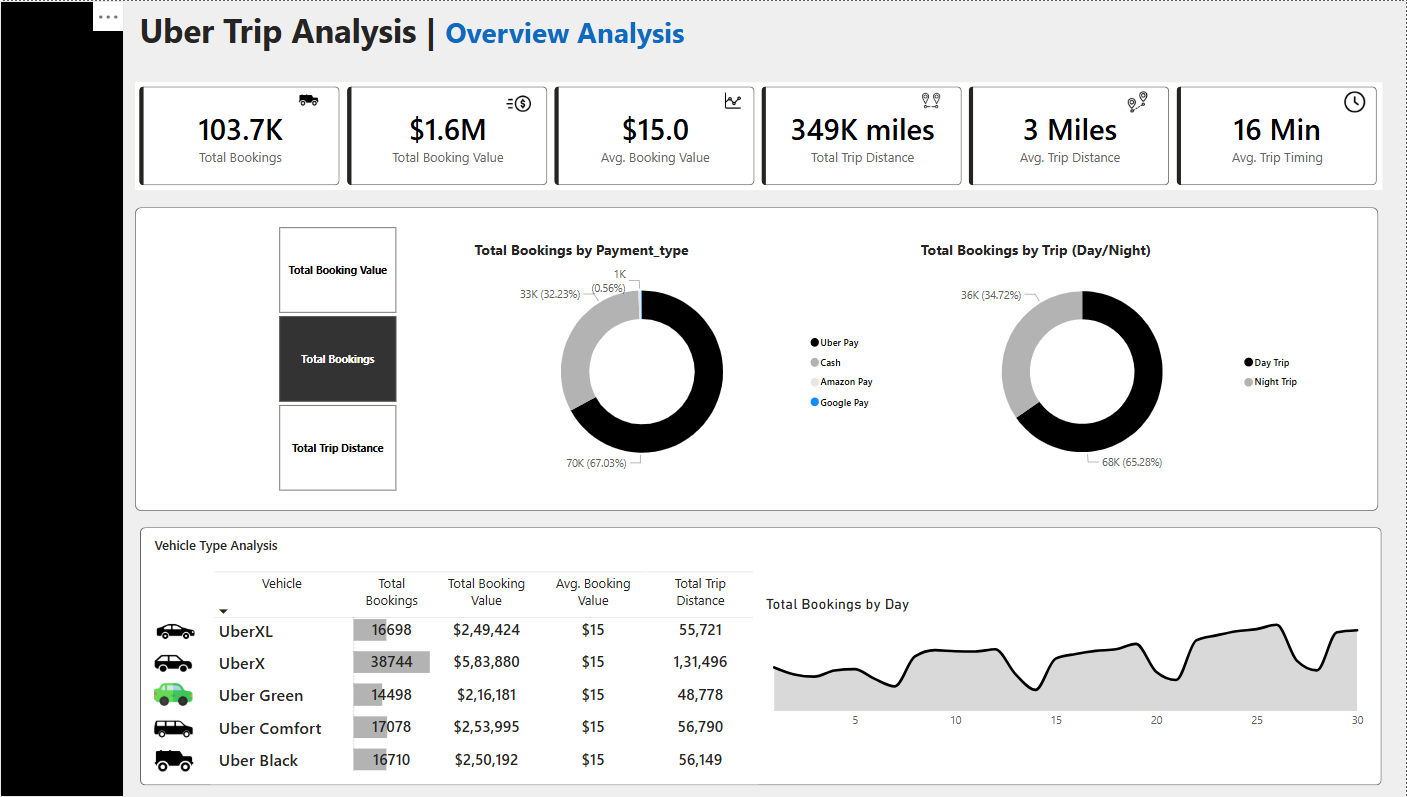

Layout of this report page (visuals, bound fields, positions):
{"tool":"powerbi","page":{"name":"Page 1","canvas":[1607,910],"ordinal":0},"visuals":[{"type":"shape","box":[0,0,141.8,910.3],"z":0},{"type":"textbox","box":[154,2.4,893.5,61],"z":1000},{"type":"cardVisual","fields":{"Data":["Trip Details.Total Bookings","Trip Details.Total Booking Value","Trip Details.Avg. Booking Amount","Trip Details.Total Trip Distance","Trip Details.Avg. Trip Distance","Trip Details.Avg. Trip Timing"]},"box":[154,93,1425.7,123.5],"z":2000},{"type":"image","box":[562.7,99.1,59.5,38.1],"z":3000},{"type":"image","box":[1032.3,99.1,62.5,30.5],"z":4000},{"type":"image","box":[1265.6,99.1,70.1,33.5],"z":5000},{"type":"image","box":[1524.8,99.1,47.3,33.5],"z":6000},{"type":"image","box":[806.6,99.1,61,30.5],"z":7000},{"type":"image","box":[320.2,97.6,65.6,32],"z":8000},{"type":"shape","box":[154.7,235,1421.9,347.4],"z":9000},{"type":"slicer","fields":{"Values":["Dynamic Measure.Dynamic Measure"]},"box":[293.4,251.1,183.9,315.3],"z":10000},{"type":"donutChart","fields":{"Y":["Trip Details.Total Bookings"],"Category":["Trip Details.Payment_type"]},"box":[537.2,273,474.5,280.3],"z":11000},{"type":"donutChart","fields":{"Y":["Trip Details.Total Bookings"],"Category":["Trip Details.Trip Type (Day/Night)"]},"box":[1046.7,273,449.6,280.3],"z":12000},{"type":"shape","box":[160.6,601.5,1419,294.9],"z":13000},{"type":"pivotTable","fields":{"Rows":["Trip Details.Vehicle"],"Values":["Trip Details.Total Bookings","Trip Details.Total Booking Value","Trip Details.Avg. Booking Value","Trip Details.Total Trip Distance Measure"]},"box":[239.4,646.7,626.3,248.2],"z":14000},{"type":"image","box":[163.5,692,75.9,58.4],"z":15000},{"type":"image","box":[160.6,729.9,75.9,54],"z":16000},{"type":"image","box":[160.6,766.4,75.9,54],"z":17000},{"type":"image","box":[166.4,840.9,67.2,54],"z":18000},{"type":"image","box":[160.6,802.9,75.9,58.4],"z":19000},{"type":"card","fields":{"Values":["Trip Details.Title for Grid"]},"box":[156.2,610.2,182.5,29.2],"z":20000},{"type":"areaChart","fields":{"Category":["Calendar Table.Date.Variation.Date Hierarchy.Day"],"Y":["Trip Details.Total Bookings"]},"box":[870.1,678.8,696.3,162],"z":22000}]}

Visuals, with their boxes on the page's 1607x910 design canvas (x1, y1, x2, y2). These are canvas units, not pixel positions in the 1407x797 screenshot, which may show the page scaled, cropped or inside an application window:
shape: 0,0,142,910
textbox: 154,2,1048,63
cardVisual - Trip Details.Total Bookings x Trip Details.Total Booking Value: 154,93,1580,216
image: 563,99,622,137
image: 1032,99,1095,130
image: 1266,99,1336,133
image: 1525,99,1572,133
image: 807,99,868,130
image: 320,98,386,130
shape: 155,235,1577,582
slicer - Dynamic Measure.Dynamic Measure: 293,251,477,566
donutChart - Trip Details.Total Bookings x Trip Details.Payment_type: 537,273,1012,553
donutChart - Trip Details.Total Bookings x Trip Details.Trip Type (Day/Night): 1047,273,1496,553
shape: 161,602,1580,896
pivotTable - Trip Details.Vehicle x Trip Details.Total Bookings: 239,647,866,895
image: 164,692,239,750
image: 161,730,236,784
image: 161,766,236,820
image: 166,841,234,895
image: 161,803,236,861
card - Trip Details.Title for Grid: 156,610,339,639
areaChart - Calendar Table.Date.Variation.Date Hierarchy.Day x Trip Details.Total Bookings: 870,679,1566,841
